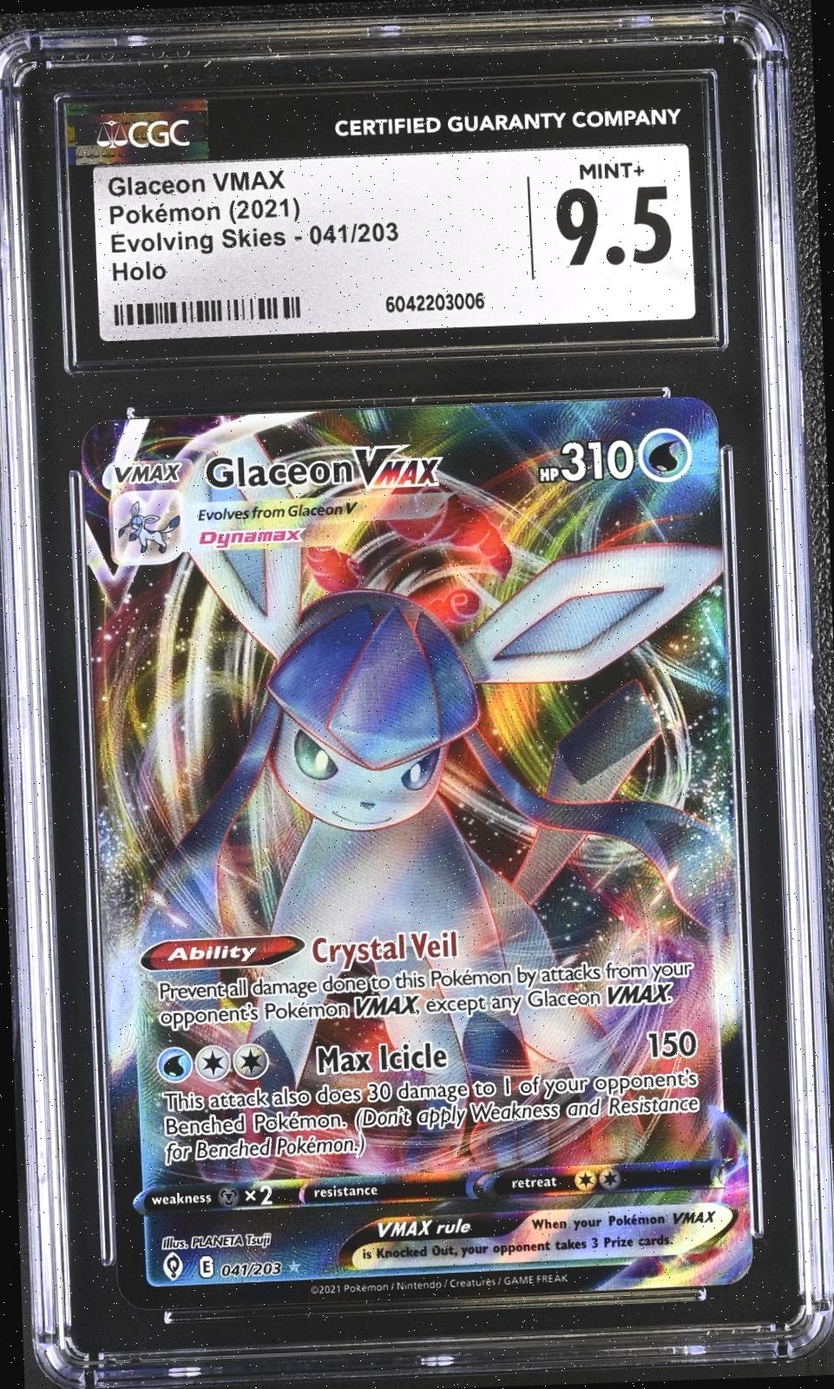card-2UtV: (80, 396, 753, 1311)
